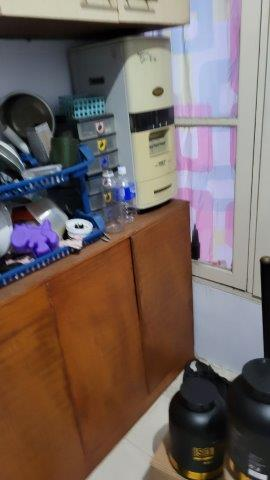botolplastik: (103, 168, 119, 234), (118, 167, 139, 213)
